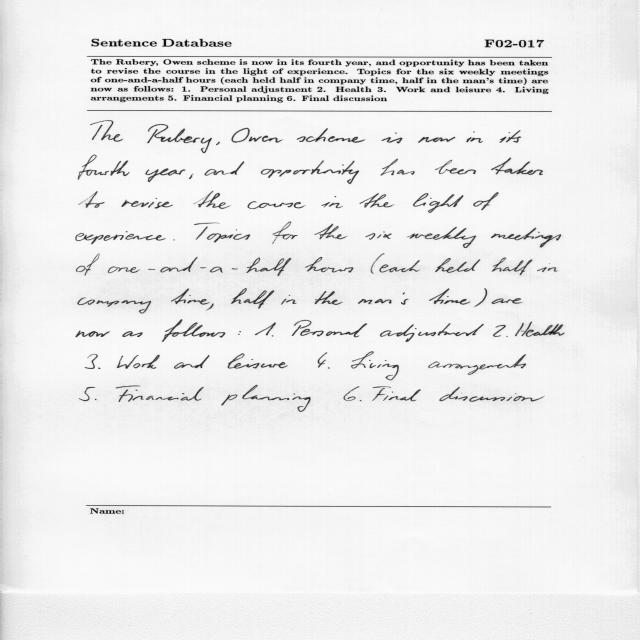word: (108, 257, 291, 276), (221, 385, 311, 412), (261, 160, 359, 184), (428, 354, 526, 375), (380, 323, 484, 342), (147, 124, 212, 153), (440, 387, 545, 402), (116, 386, 204, 403), (407, 227, 476, 248), (162, 319, 225, 342), (491, 228, 561, 248), (351, 352, 399, 380), (78, 155, 130, 180), (292, 320, 367, 337), (76, 232, 166, 245), (78, 298, 151, 314), (194, 223, 250, 243), (297, 128, 365, 143), (413, 193, 464, 213), (228, 353, 288, 369), (491, 158, 543, 176), (231, 288, 274, 309), (232, 128, 284, 143), (305, 257, 353, 273), (492, 258, 533, 276), (515, 322, 564, 337), (372, 387, 421, 402), (429, 288, 470, 305), (193, 191, 231, 209), (435, 258, 480, 273), (91, 121, 123, 142), (171, 288, 210, 305), (358, 292, 409, 305), (380, 158, 415, 176), (435, 160, 476, 175), (117, 355, 160, 369), (205, 161, 245, 176), (121, 198, 173, 209), (272, 222, 298, 244), (145, 168, 185, 182), (379, 260, 420, 273), (76, 254, 100, 276), (360, 193, 395, 208), (314, 224, 348, 239), (174, 355, 210, 369), (247, 201, 306, 209), (473, 192, 499, 210), (79, 191, 105, 208), (315, 291, 342, 305), (500, 130, 522, 143), (371, 254, 385, 274), (255, 323, 276, 336), (343, 386, 360, 401), (322, 196, 343, 208), (474, 289, 487, 308), (366, 231, 392, 240), (382, 133, 403, 144), (418, 137, 455, 143), (80, 387, 95, 401), (466, 131, 483, 143), (76, 331, 110, 337), (85, 354, 98, 369), (492, 298, 523, 304), (537, 264, 558, 272), (318, 352, 328, 368), (493, 325, 506, 337), (281, 295, 297, 304), (123, 331, 143, 337), (207, 304, 214, 311), (189, 174, 194, 179), (216, 142, 220, 145), (238, 331, 241, 335), (98, 367, 101, 369), (328, 367, 330, 369), (173, 240, 175, 241), (272, 336, 274, 337), (506, 336, 508, 337), (95, 399, 97, 400), (360, 400, 362, 401)
